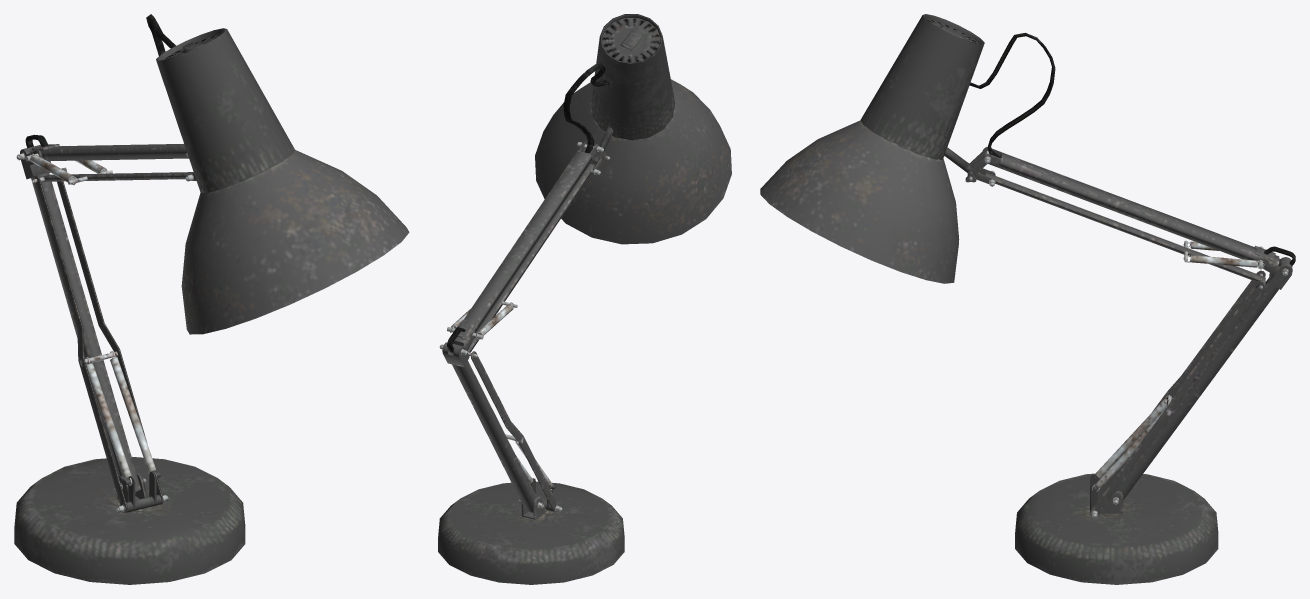
File: sm35_032_desklamp01a.fbx
3 renders of one model, left to right at view 1: azimuth 30°, elevation 25°; view 2: azimuth 150°, elevation 25°; view 3: azimuth 270°, elevation 25°, orthographic. The views are drawn at different scales.
Visible parts, largest first — view 1: LOD_1_Group_0_Sub_1__sm35_032_DeskLamp01A_A_Mat, LOD_1_Group_1_Sub_1__sm35_032_DeskLamp01A_A_Mat, LOD_1_Group_2_Sub_1__sm35_032_DeskLamp01A_A_Mat, LOD_1_Group_3_Sub_1__sm35_032_DeskLamp01A_A_Mat; view 2: LOD_1_Group_0_Sub_1__sm35_032_DeskLamp01A_A_Mat, LOD_1_Group_1_Sub_1__sm35_032_DeskLamp01A_A_Mat, LOD_1_Group_3_Sub_1__sm35_032_DeskLamp01A_A_Mat, LOD_1_Group_2_Sub_1__sm35_032_DeskLamp01A_A_Mat; view 3: LOD_1_Group_0_Sub_1__sm35_032_DeskLamp01A_A_Mat, LOD_1_Group_1_Sub_1__sm35_032_DeskLamp01A_A_Mat.
Boxes of the visible parts, x1,y1,x2,y2 form: LOD_1_Group_0_Sub_1__sm35_032_DeskLamp01A_A_Mat: (14,14,409,584); LOD_1_Group_1_Sub_1__sm35_032_DeskLamp01A_A_Mat: (20,28,295,513); LOD_1_Group_2_Sub_1__sm35_032_DeskLamp01A_A_Mat: (16,152,193,512); LOD_1_Group_3_Sub_1__sm35_032_DeskLamp01A_A_Mat: (25,145,147,502); LOD_1_Group_0_Sub_1__sm35_032_DeskLamp01A_A_Mat: (438,63,731,584); LOD_1_Group_1_Sub_1__sm35_032_DeskLamp01A_A_Mat: (442,14,675,512); LOD_1_Group_3_Sub_1__sm35_032_DeskLamp01A_A_Mat: (447,144,610,519); LOD_1_Group_2_Sub_1__sm35_032_DeskLamp01A_A_Mat: (439,142,603,511); LOD_1_Group_0_Sub_1__sm35_032_DeskLamp01A_A_Mat: (760,32,1295,584); LOD_1_Group_1_Sub_1__sm35_032_DeskLamp01A_A_Mat: (860,14,1292,516).
Size of the model in its own units: 0.2442 by 0.6021 by 0.5697.
